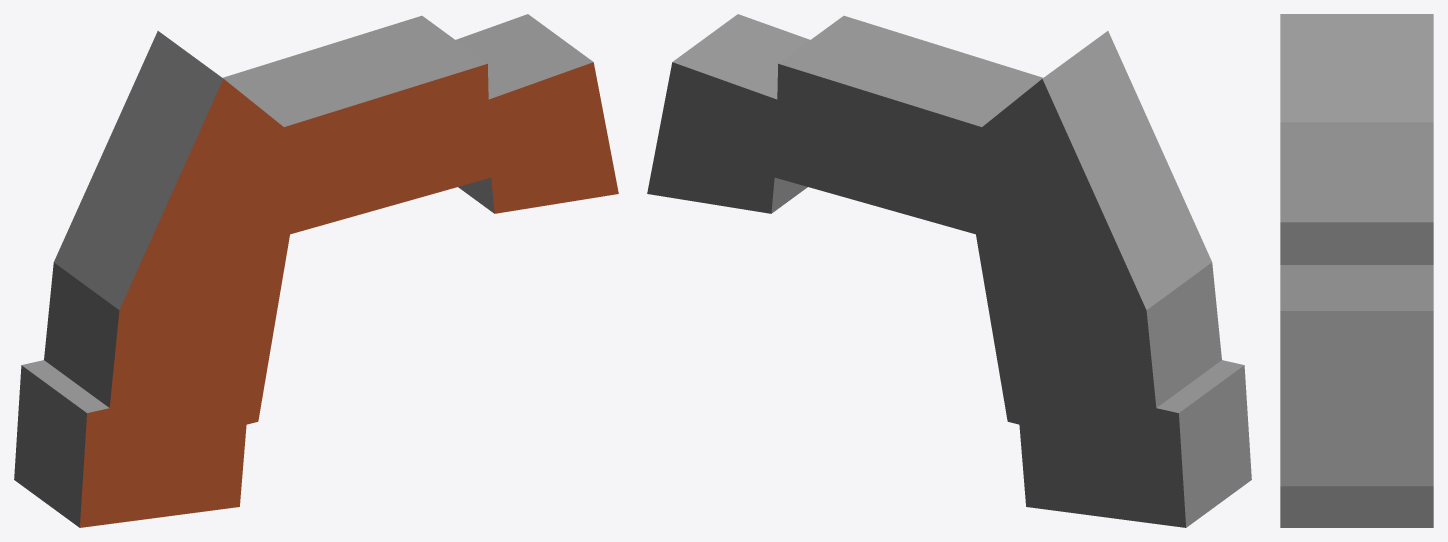
The model's file is construction_1922_assumed_A_Casa_h6m.obj.
3 views of the same model, side by side, from view 1: azimuth 30°, elevation 25°; view 2: azimuth 150°, elevation 25°; view 3: azimuth 270°, elevation 25° (orthographic). The views are drawn at different scales.
Parts seen in each view (by area): view 1: construction_1922_assumed_A_Casa; view 2: construction_1922_assumed_A_Casa; view 3: construction_1922_assumed_A_Casa.
Boxes of the visible parts, box(x1,y1,x2,y2) form: construction_1922_assumed_A_Casa: box(14, 14, 618, 527); construction_1922_assumed_A_Casa: box(647, 14, 1251, 527); construction_1922_assumed_A_Casa: box(1280, 14, 1433, 527).
Bounding box in the file's own units: 28.42 × 21.78 × 6.
